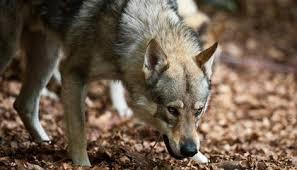Wolf: (1, 2, 223, 167)
